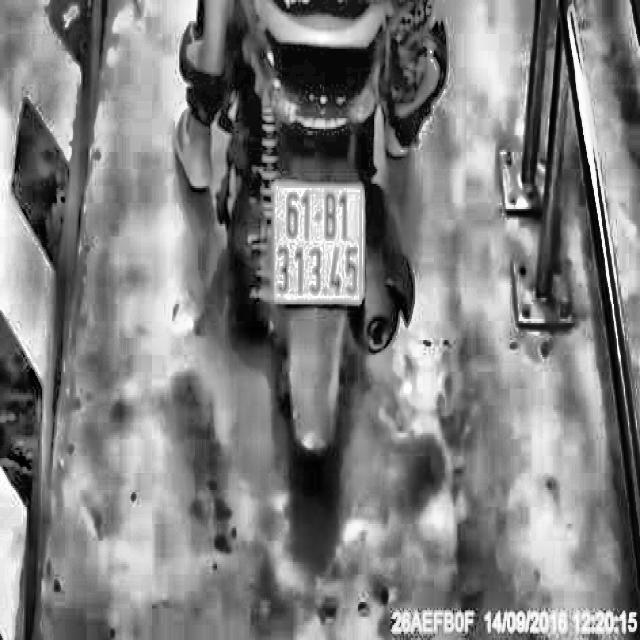plate: (268, 177, 368, 308)
